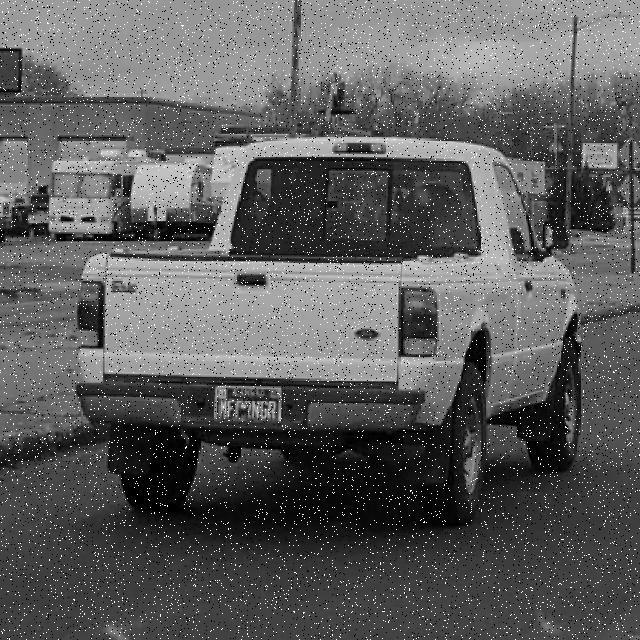LicensePlate: (210, 384, 283, 424)
